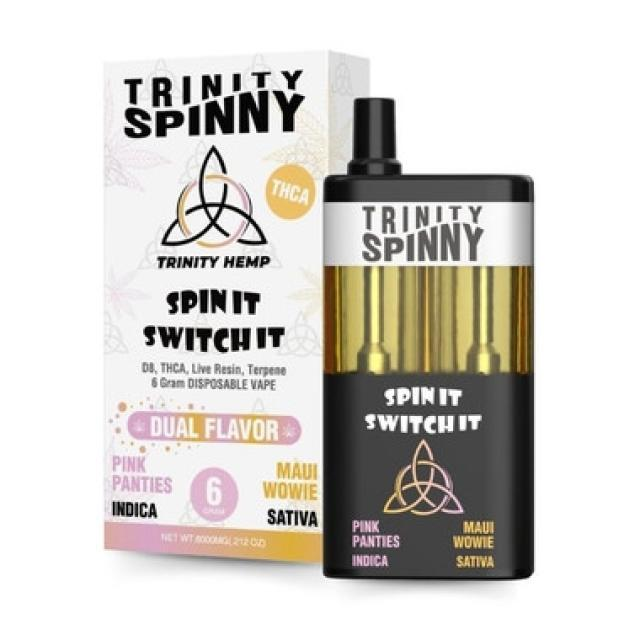Vapes: (320, 94, 536, 581)
